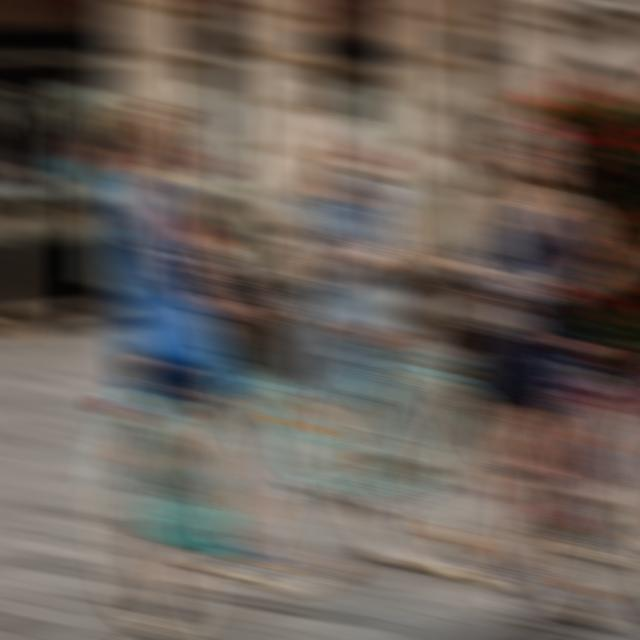Without Helmet: (117, 92, 196, 176), (507, 114, 572, 186)
